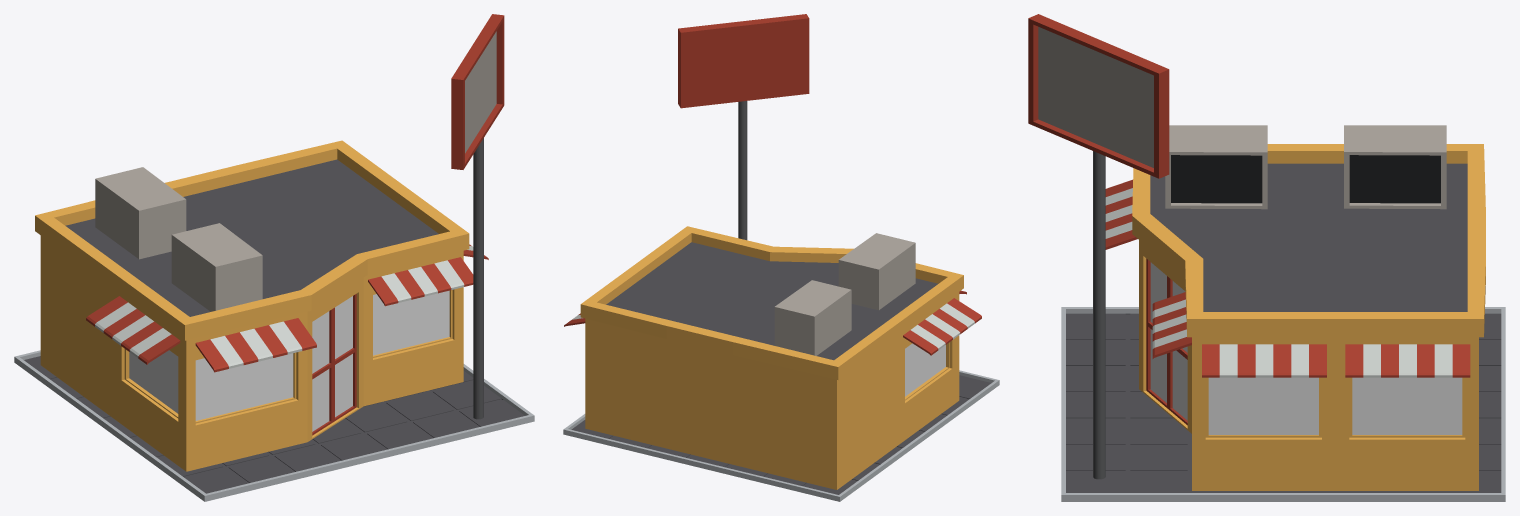
Rendered from SM_bistro_01_B.gltf.
3 views of the same model, side by side, from view 1: azimuth 30°, elevation 25°; view 2: azimuth 150°, elevation 25°; view 3: azimuth 270°, elevation 25° (orthographic). The views are drawn at different scales.
Visible parts, largest first — view 1: SM_bistro_01_B; view 2: SM_bistro_01_B; view 3: SM_bistro_01_B.
Boxes of the visible parts, left/top/right/bottom form: SM_bistro_01_B: left=14, top=14, right=534, bottom=501; SM_bistro_01_B: left=563, top=14, right=999, bottom=501; SM_bistro_01_B: left=1028, top=14, right=1505, bottom=501.
Bounding box in the file's own units: 4.91 × 4.82 × 4.79.
